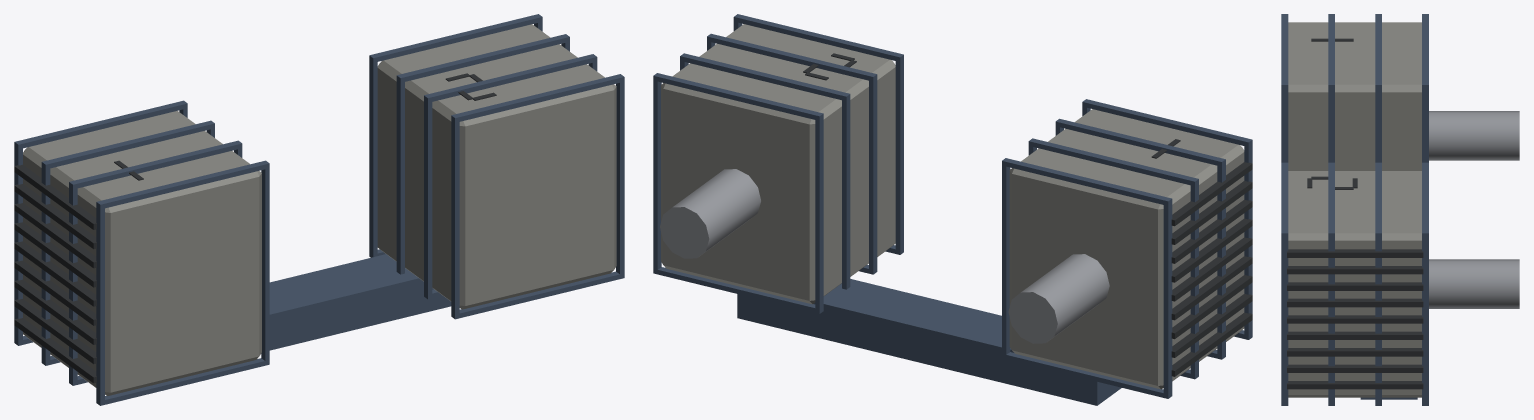
The model's file is kc1000_cooler.obj.
The picture shows the model from 3 angles, left to right: view 1: azimuth 30°, elevation 25°; view 2: azimuth 150°, elevation 25°; view 3: azimuth 270°, elevation 25°; orthographic projection. The views are drawn at different scales.
Visible parts, largest first — view 1: kc1000_cooler; view 2: kc1000_cooler; view 3: kc1000_cooler.
Part boxes in pixels (x1,y1,x2,y2): kc1000_cooler: (14, 14, 624, 405); kc1000_cooler: (653, 14, 1252, 405); kc1000_cooler: (1281, 14, 1519, 405).
Bounding box in the file's own units: 4.64 × 1.94 × 2.1.
